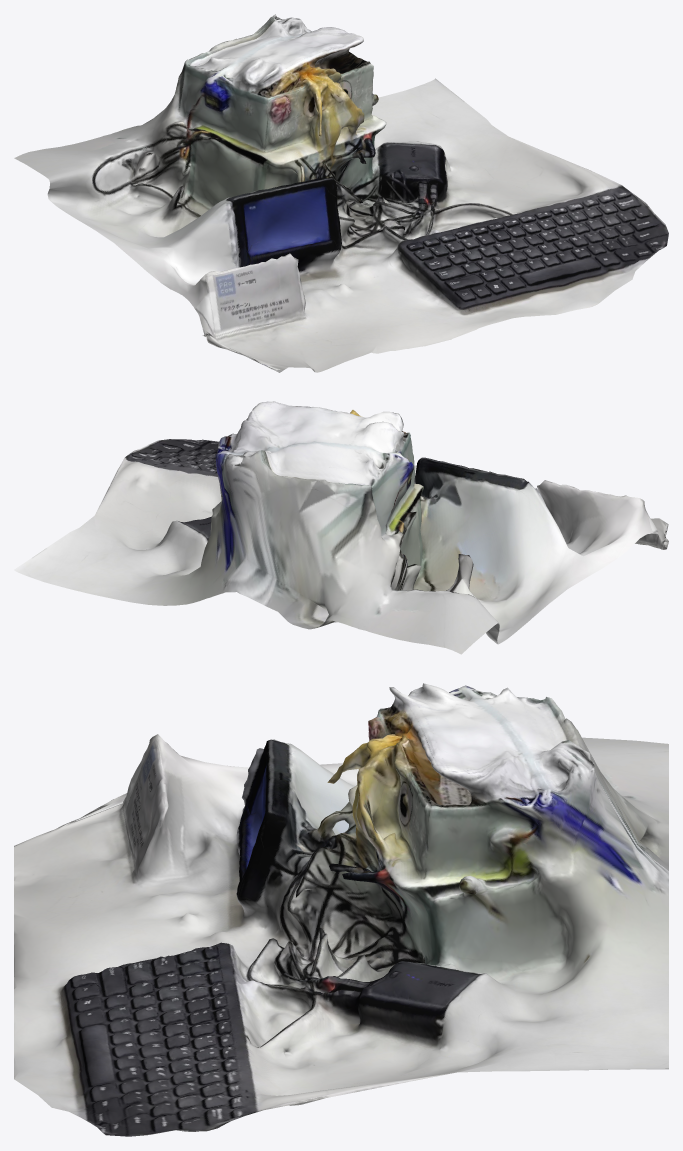
File: miyagi-maskpone.glb
3 views of the same model, one above another, from view 1: azimuth 30°, elevation 25°; view 2: azimuth 150°, elevation 25°; view 3: azimuth 270°, elevation 25° (orthographic). The views are drawn at different scales.
Parts seen in each view (by area): view 1: baked_mesh; view 2: baked_mesh; view 3: baked_mesh.
Part boxes in pixels (bbox=[...]): baked_mesh: bbox=[14, 14, 668, 372]; baked_mesh: bbox=[14, 401, 668, 654]; baked_mesh: bbox=[14, 683, 668, 1136].
Size of the model in its own units: 0.8738 by 0.3257 by 0.7418.
Materials: 1 (1 with a texture image).
